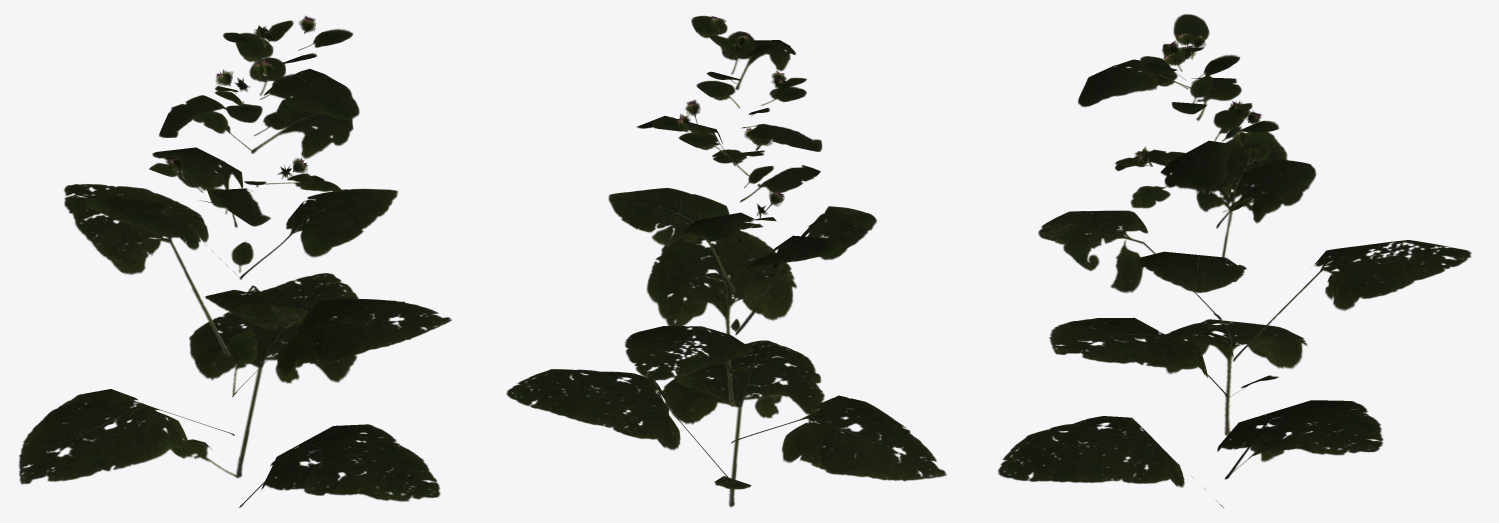
Rendered from veg-58.glb.
3 renders of one model, left to right at view 1: azimuth 30°, elevation 25°; view 2: azimuth 150°, elevation 25°; view 3: azimuth 270°, elevation 25°, orthographic. The views are drawn at different scales.
Parts seen in each view (by area): view 1: _91n2_VarB_LOD2_58; view 2: _91n2_VarB_LOD2_58; view 3: _91n2_VarB_LOD2_58.
Part boxes in pixels (bbox=[...]): _91n2_VarB_LOD2_58: bbox=[19, 15, 451, 507]; _91n2_VarB_LOD2_58: bbox=[506, 15, 946, 507]; _91n2_VarB_LOD2_58: bbox=[998, 14, 1471, 508].
Bounding box in the file's own units: 0.3598 × 0.4223 × 0.3906.
Materials: 1 (1 with a texture image).
